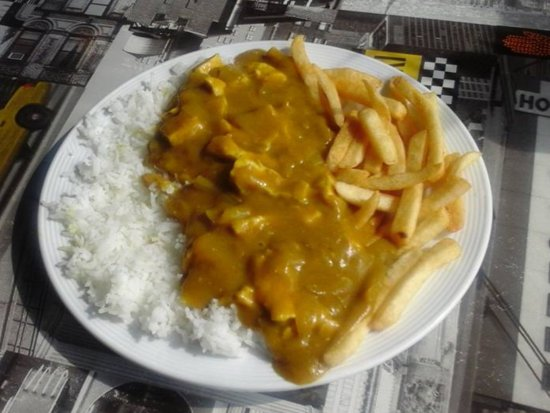curry: (201, 77, 358, 338), (258, 202, 379, 352), (181, 145, 308, 275), (184, 61, 315, 157)
